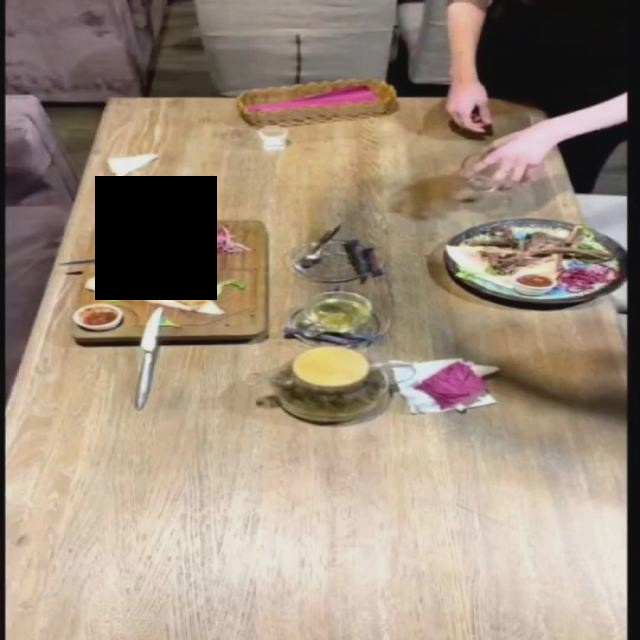meat: (73, 217, 273, 344), (422, 205, 634, 302)
tea: (277, 341, 381, 438)
